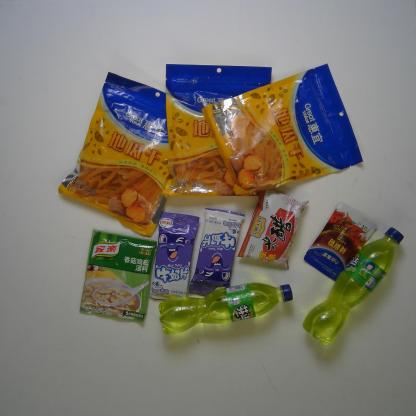Candy: (145, 208, 205, 303), (188, 204, 247, 299)
Dried Fruit: (196, 62, 365, 195), (56, 66, 178, 239), (162, 59, 276, 198)
Drink: (302, 222, 406, 353), (156, 281, 295, 335)
Seasoner: (75, 224, 157, 330), (299, 200, 385, 283), (237, 187, 311, 273)
